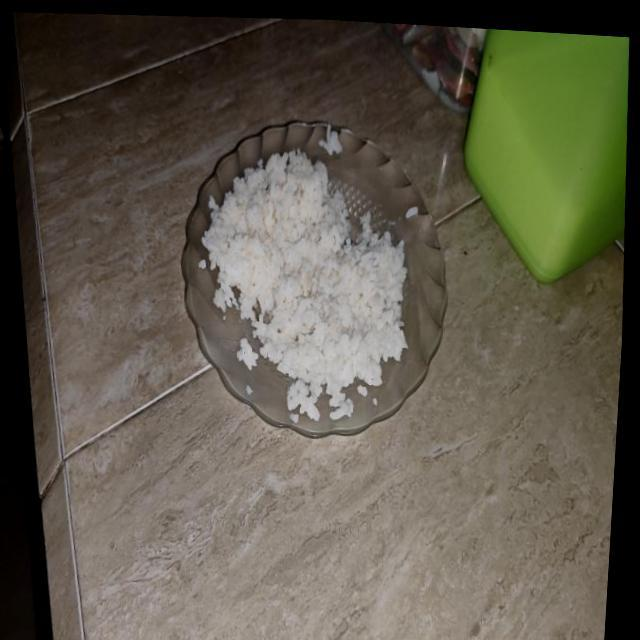nasi_putih: (202, 149, 407, 408)
